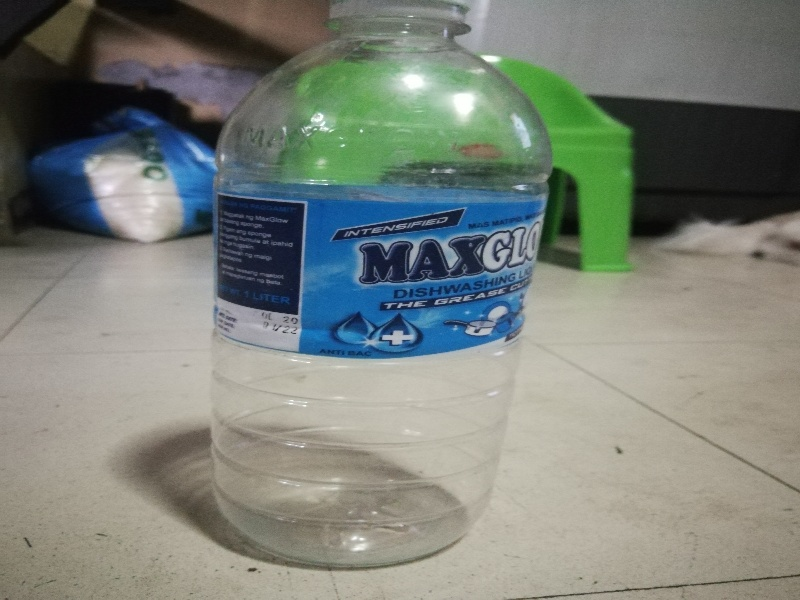PET #1: (203, 1, 549, 566)
